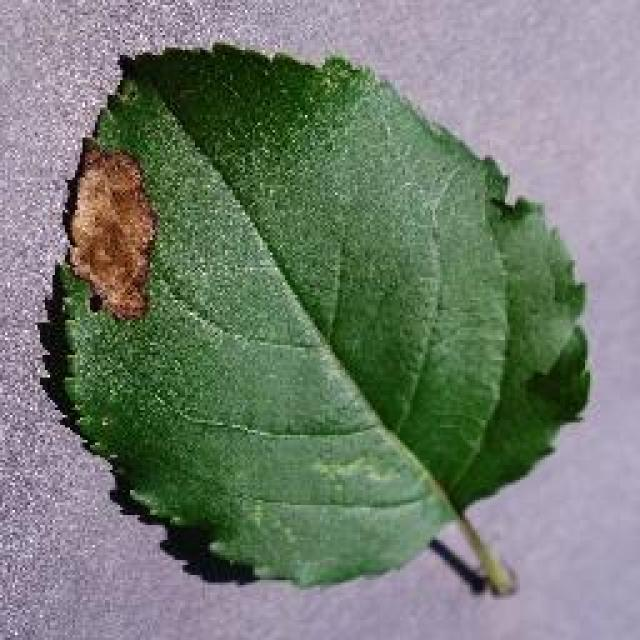apple black rot: (35, 37, 593, 595)
